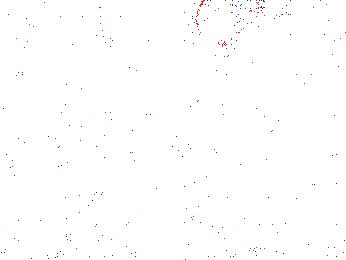moon jellyfish: (99, 1, 179, 73), (150, 43, 236, 98), (278, 1, 346, 52), (195, 1, 264, 50), (25, 1, 113, 27)
